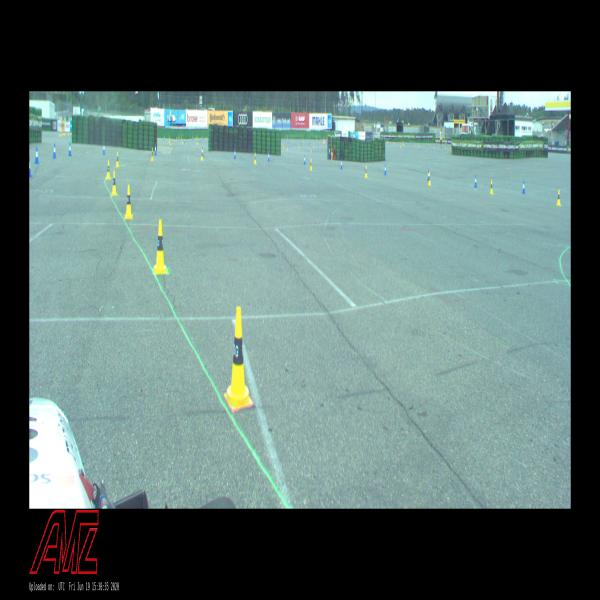blue_cone: (35, 147, 39, 164), (29, 156, 32, 177), (68, 142, 72, 156), (102, 142, 106, 155), (53, 143, 56, 158), (522, 180, 525, 194), (474, 175, 477, 188), (340, 158, 343, 169), (154, 144, 157, 155), (268, 150, 270, 162), (384, 164, 386, 176), (427, 169, 429, 181), (234, 149, 236, 159), (202, 147, 204, 157), (304, 155, 305, 165), (184, 138, 186, 143), (163, 135, 165, 140), (199, 137, 200, 143), (329, 148, 330, 154), (179, 136, 180, 141), (192, 135, 193, 140), (317, 140, 318, 145), (202, 136, 203, 140), (288, 139, 289, 143), (426, 142, 427, 146), (406, 142, 407, 146), (417, 142, 418, 146), (446, 142, 447, 146), (290, 144, 290, 148), (300, 139, 300, 145), (310, 140, 310, 144), (312, 142, 312, 148), (428, 143, 428, 147), (436, 143, 436, 147)
large_orange_cone: (323, 138, 324, 146), (324, 138, 325, 146)
orange_cone: (175, 138, 176, 144), (310, 146, 311, 152), (176, 136, 177, 140), (282, 144, 283, 148), (387, 140, 388, 144)
yellow_cone: (224, 307, 252, 409), (153, 220, 167, 274), (125, 185, 133, 219), (111, 171, 117, 196), (106, 160, 111, 179), (116, 151, 120, 167), (556, 190, 560, 206), (490, 179, 493, 195), (428, 171, 431, 186), (151, 147, 154, 161), (364, 165, 367, 178), (310, 158, 312, 172), (254, 153, 256, 164), (201, 149, 203, 160), (170, 140, 172, 146), (59, 130, 61, 136), (64, 130, 66, 136), (70, 129, 72, 135), (331, 148, 333, 154), (298, 144, 300, 149), (316, 136, 318, 140), (386, 139, 388, 143), (197, 139, 198, 145), (287, 144, 288, 150), (61, 130, 62, 136), (63, 130, 64, 136), (169, 138, 170, 144), (182, 138, 183, 144), (68, 130, 69, 135), (178, 135, 179, 140), (181, 135, 182, 140), (195, 134, 196, 139), (197, 135, 198, 140), (304, 138, 305, 143), (318, 139, 319, 144), (327, 136, 328, 141), (400, 143, 401, 148), (419, 142, 420, 147), (445, 144, 446, 149), (169, 135, 170, 139), (302, 136, 303, 140), (393, 140, 394, 144), (401, 141, 402, 145), (403, 141, 404, 145), (429, 144, 430, 148), (434, 144, 435, 148), (287, 136, 288, 140), (415, 142, 416, 146), (284, 144, 284, 148), (311, 146, 311, 152), (206, 135, 206, 140), (293, 138, 293, 142), (314, 143, 314, 148), (418, 143, 418, 147)
